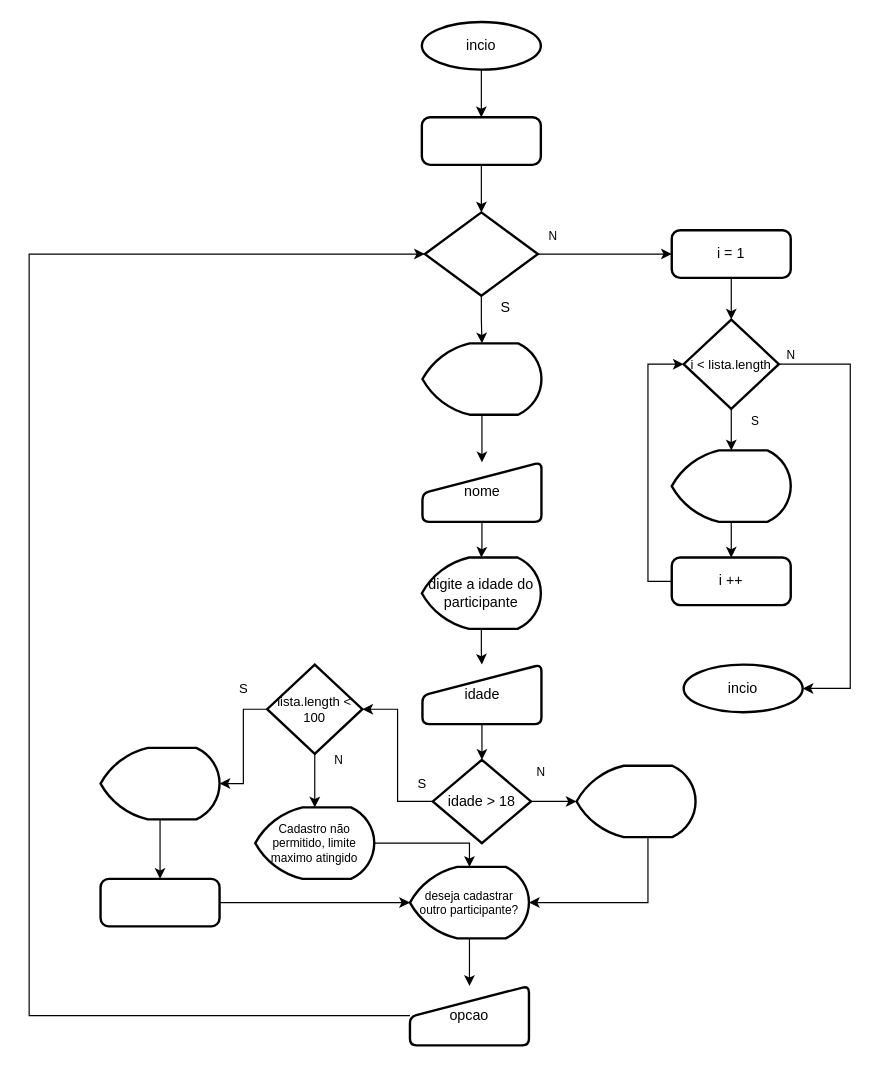
The diagram is 881 pixels wide and 1066 high, and some of its shapes have lost their labels. The centre of each missing label's shape, as x and y in pixels:
Cadastro não permitido para menores: (635,801)
Cadastro permitido: (159,783)
digite o nome do participante: (481,378)
lista = [ ] opcao = 's': (480,140)
lista = [nome]: (159,902)
lista[i]: (730,485)
opcao == 's': (480,253)
